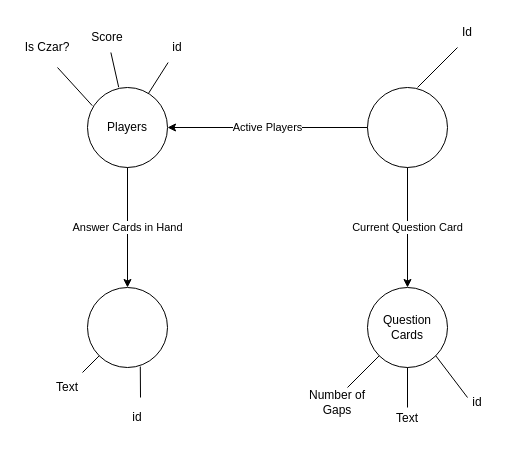
Image size: 524x450. Some labels were removed from this diagram. The centre of each missing label's shape, as x and y in pixels:
"Answer Cards" goes at (x=127, y=327).
"Games" goes at (x=407, y=127).
